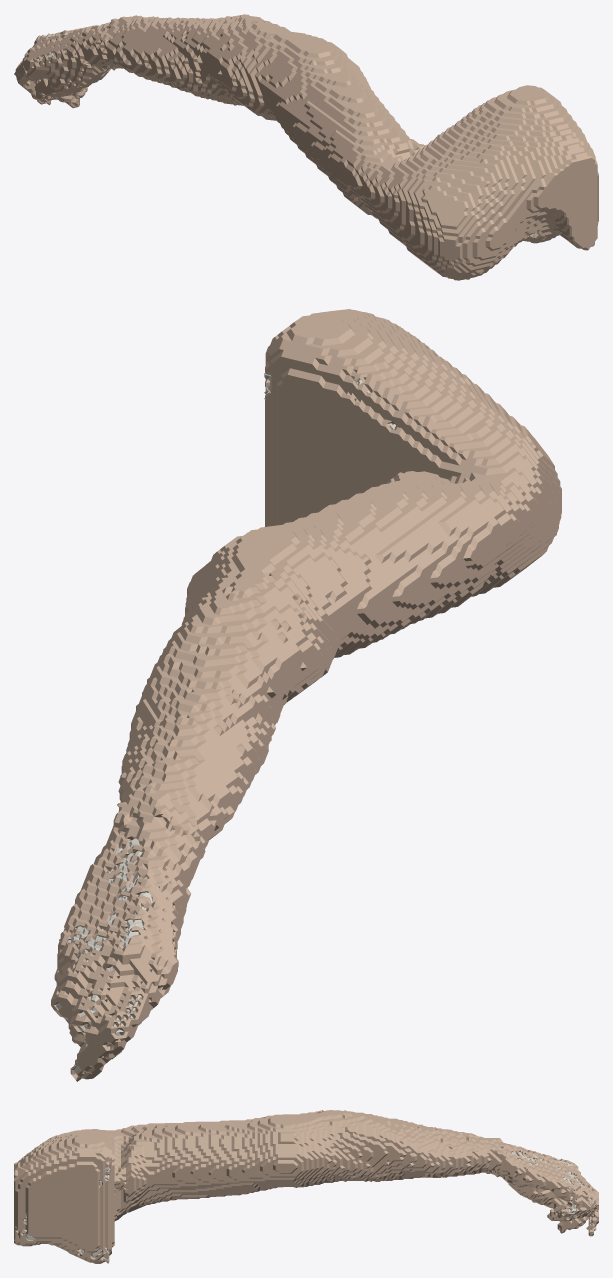
File: upperextremity.glb
3 renders of one model, top to bottom at view 1: azimuth 30°, elevation 25°; view 2: azimuth 150°, elevation 25°; view 3: azimuth 270°, elevation 25°, orthographic. The views are drawn at different scales.
Parts seen in each view (by area): view 1: world; view 2: world; view 3: world.
Boxes of the visible parts, <box> form: world: <box>14,14,598,280</box>; world: <box>51,309,561,1081</box>; world: <box>14,1110,598,1263</box>.
Size of the model in its own units: 249 by 207 by 681.
